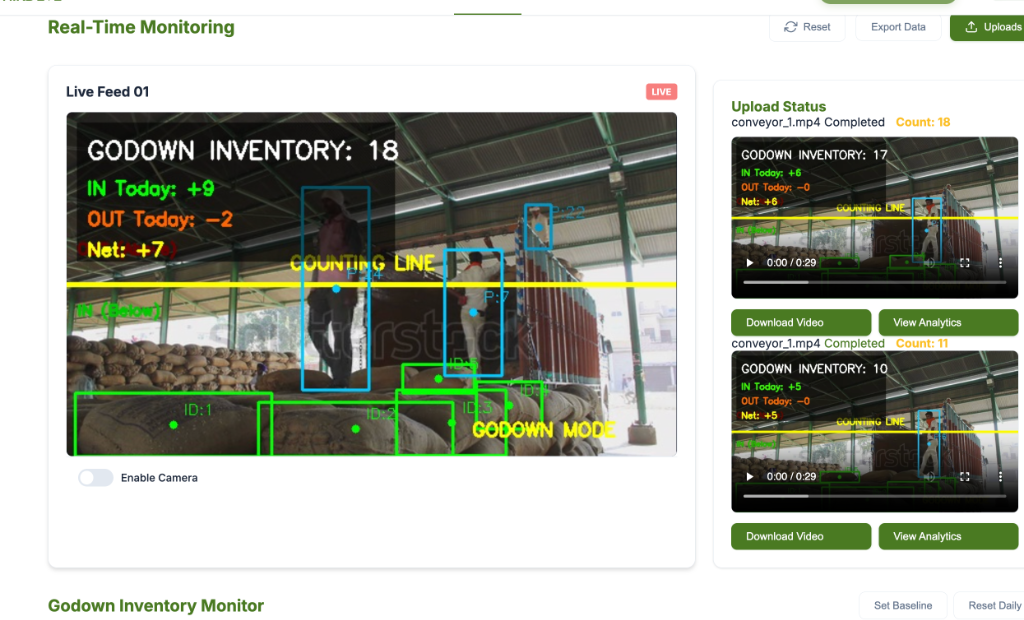sack: (63, 248, 639, 455)
